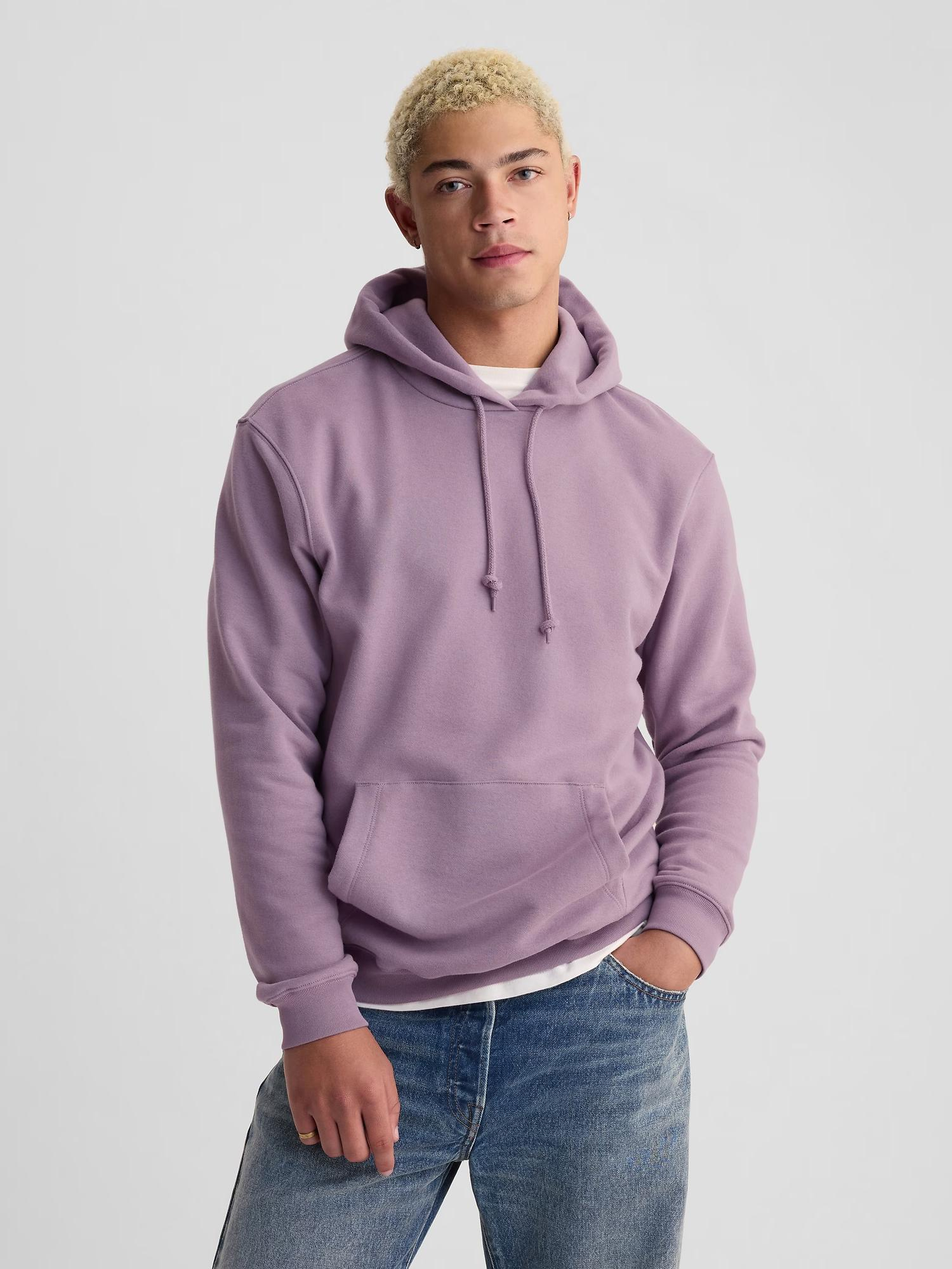sweater: (201, 259, 769, 1052)
trousers: (215, 950, 703, 1269)
